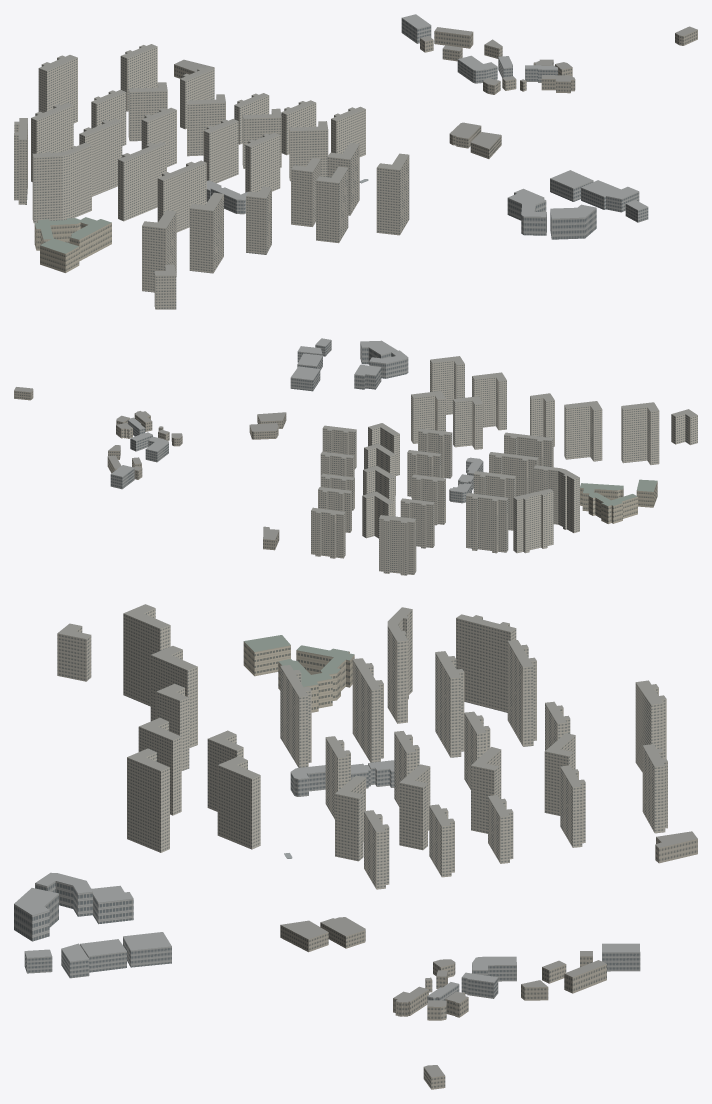
3 renders of one model, top to bottom at view 1: azimuth 30°, elevation 25°; view 2: azimuth 150°, elevation 25°; view 3: azimuth 270°, elevation 25°, orthographic. The views are drawn at different scales.
Parts seen in each view (by area): view 1: ctx-apt, ctx-roof-apt, ctx-shop, ctx-roof-shop, ctx-other, ctx-school, ctx-roof-other, ctx-roof-school; view 2: ctx-apt, ctx-roof-apt, ctx-shop, ctx-roof-shop, ctx-school, ctx-other, ctx-roof-other, ctx-roof-school; view 3: ctx-apt, ctx-roof-apt, ctx-shop, ctx-roof-shop, ctx-other, ctx-roof-other, ctx-school, ctx-roof-school.
Part boxes in pixels (bbox=[...]): ctx-apt: bbox=[14, 46, 409, 309]; ctx-roof-apt: bbox=[14, 44, 408, 275]; ctx-shop: bbox=[206, 18, 648, 239]; ctx-roof-shop: bbox=[206, 14, 647, 218]; ctx-other: bbox=[174, 30, 697, 158]; ctx-school: bbox=[34, 219, 111, 272]; ctx-roof-other: bbox=[174, 26, 697, 148]; ctx-roof-school: bbox=[35, 217, 111, 253]; ctx-apt: bbox=[311, 360, 697, 575]; ctx-roof-apt: bbox=[311, 356, 697, 522]; ctx-shop: bbox=[110, 340, 483, 503]; ctx-roof-shop: bbox=[111, 338, 482, 491]; ctx-school: bbox=[580, 481, 657, 523]; ctx-other: bbox=[14, 390, 286, 550]; ctx-roof-other: bbox=[14, 387, 285, 539]; ctx-roof-school: bbox=[580, 479, 657, 506]; ctx-apt: bbox=[57, 608, 667, 889]; ctx-roof-apt: bbox=[58, 604, 667, 832]; ctx-shop: bbox=[14, 764, 640, 1002]; ctx-roof-shop: bbox=[14, 760, 639, 997]; ctx-other: bbox=[280, 837, 697, 1089]; ctx-roof-other: bbox=[280, 831, 697, 1077]; ctx-school: bbox=[243, 641, 354, 712]; ctx-roof-school: bbox=[244, 635, 354, 686].
Size of the model in its own units: 909 by 93.78 by 599.
Materials: 9 (4 with a texture image).
